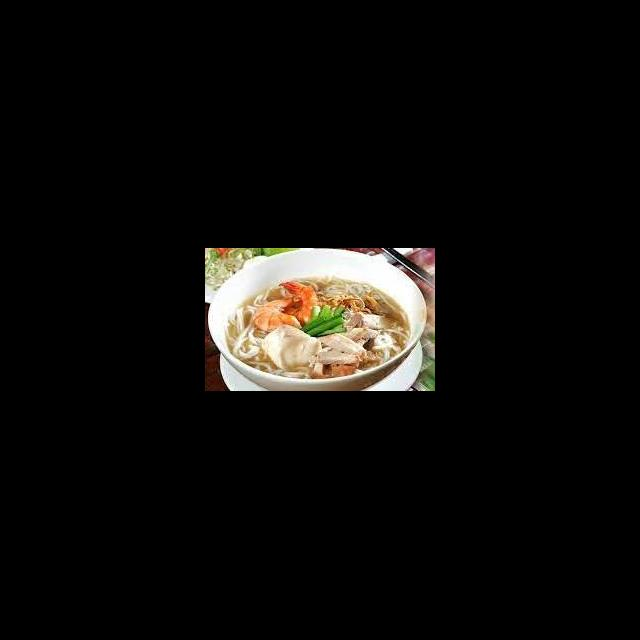bun: (220, 302, 274, 378)
ca: (260, 322, 323, 374)
thit heo quay: (319, 332, 370, 360), (346, 311, 395, 334), (313, 350, 365, 370)
tom: (250, 294, 308, 334), (275, 278, 322, 326)
